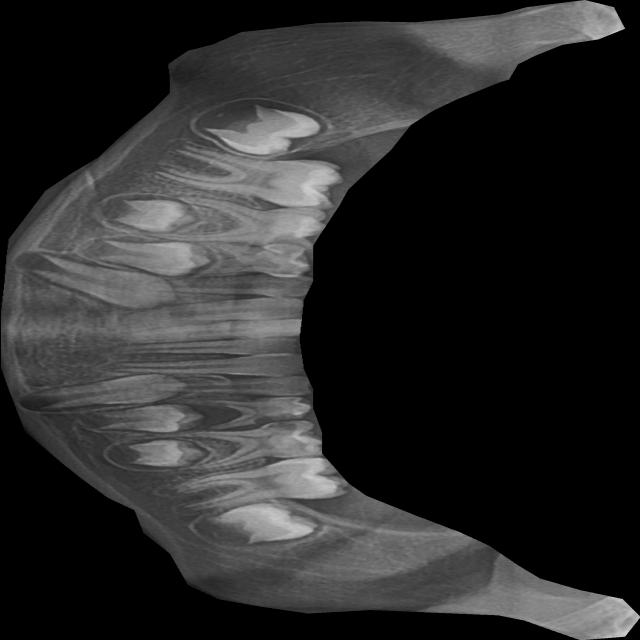mandibula: (0, 0, 640, 640)
